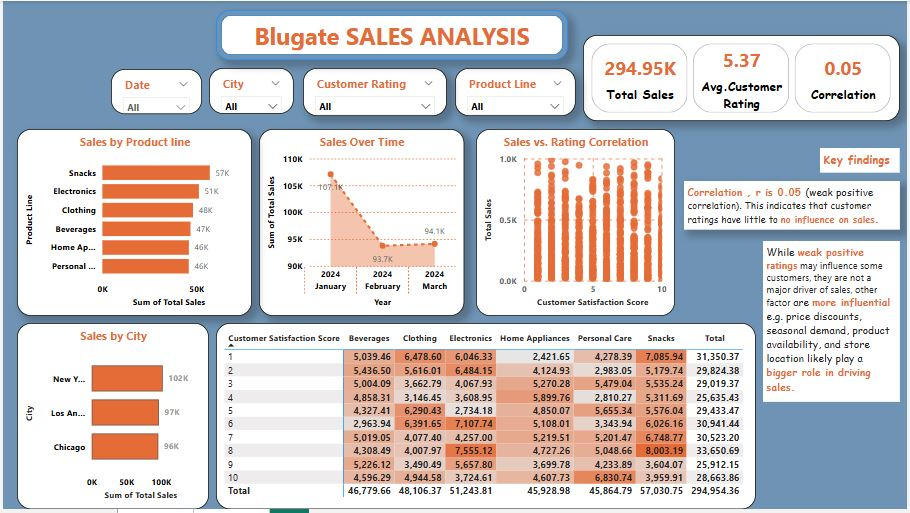

What the dashboard file says about the page in this screenshot:
{"tool":"powerbi","page":{"name":"Page 1","canvas":[1280,720],"ordinal":0},"visuals":[{"type":"cardVisual","fields":{"Data":["supermarket_sales.Total_Sales","supermarket_sales.Avg.Customer Rating","supermarket_sales.Correlation"]},"box":[822.2,47.5,449.3,122.4],"z":0},{"type":"lineChart","title":"Sales Over Time","fields":{"Y":["Sum(supermarket_sales.Total Sales)"],"Category":["supermarket_sales.Date.Variation.Date Hierarchy.Month","supermarket_sales.Date.Variation.Date Hierarchy.Year"]},"box":[362.8,181.4,290.6,265],"z":1000},{"type":"clusteredBarChart","title":"Sales by Product line","fields":{"Y":["Sum(supermarket_sales.Total Sales)"],"Category":["supermarket_sales.Product Line"]},"box":[19.8,181.4,333.1,265],"z":2000},{"type":"clusteredBarChart","title":"Sales by City","fields":{"Y":["Sum(supermarket_sales.Total Sales)"],"Category":["supermarket_sales.City"]},"box":[19.8,456.4,272.1,263.6],"z":3000},{"type":"pivotTable","fields":{"Columns":["supermarket_sales.Product Line"],"Rows":["supermarket_sales.Customer Satisfaction Score"],"Values":["Sum(supermarket_sales.Total Sales)"]},"box":[301.9,456.4,765.4,263.6],"z":4000},{"type":"slicer","fields":{"Values":["supermarket_sales.City"]},"box":[292,95,120.5,65.2],"z":5000},{"type":"slicer","fields":{"Values":["supermarket_sales.Product Line"]},"box":[640.6,95,171.5,68],"z":6000},{"type":"slicer","fields":{"Values":["supermarket_sales.Customer Satisfaction Score"]},"box":[425.2,95,204.1,68],"z":7000},{"type":"slicer","fields":{"Values":["supermarket_sales.Date"]},"box":[153.1,96.4,129,63.8],"z":8000},{"type":"scatterChart","title":"Sales vs. Rating Correlation","fields":{"X":["supermarket_sales.Customer Satisfaction Score"],"Y":["supermarket_sales.Total Sales"]},"box":[670.4,181.4,282,265],"z":9000},{"type":"shape","box":[301.9,12.8,498.9,70.9],"z":10000},{"type":"textbox","box":[965.2,255.1,306.1,69.4],"z":11000},{"type":"textbox","box":[1158,208.3,113.4,35.4],"z":12000},{"type":"textbox","box":[1077.2,340.2,194.2,228.2],"z":13000}]}

Visuals, with their boxes in screenshot pixels (x1, y1, x2, y2), scaled from the page's 1280x720 canvas onto the 910x513 screenshot:
cardVisual - supermarket_sales.Total_Sales x supermarket_sales.Avg.Customer Rating: l=585, t=34, r=904, b=121
"Sales Over Time" lineChart: l=258, t=129, r=465, b=318
"Sales by Product line" clusteredBarChart: l=14, t=129, r=251, b=318
"Sales by City" clusteredBarChart: l=14, t=325, r=208, b=512
pivotTable - supermarket_sales.Product Line x supermarket_sales.Customer Satisfaction Score: l=215, t=325, r=759, b=512
slicer - supermarket_sales.City: l=208, t=68, r=293, b=114
slicer - supermarket_sales.Product Line: l=455, t=68, r=577, b=116
slicer - supermarket_sales.Customer Satisfaction Score: l=302, t=68, r=447, b=116
slicer - supermarket_sales.Date: l=109, t=69, r=201, b=114
"Sales vs. Rating Correlation" scatterChart: l=477, t=129, r=677, b=318
shape: l=215, t=9, r=569, b=60
textbox: l=686, t=182, r=904, b=231
textbox: l=823, t=148, r=904, b=174
textbox: l=766, t=242, r=904, b=405
